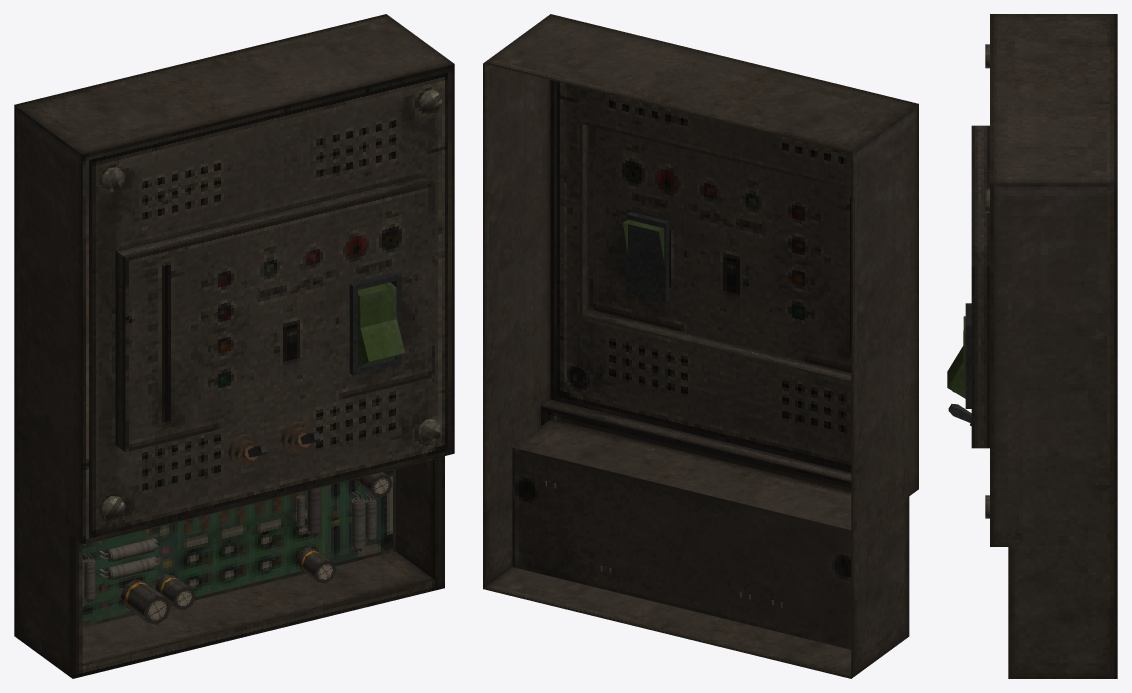
File: panel_etx_1_2.glb
3 views of the same model, side by side, from view 1: azimuth 30°, elevation 25°; view 2: azimuth 150°, elevation 25°; view 3: azimuth 270°, elevation 25° (orthographic). The views are drawn at different scales.
Visible parts, largest first — view 1: panel_etx_1_2, panel_etx_1_2_button_child; view 2: panel_etx_1_2; view 3: panel_etx_1_2, panel_etx_1_2_button_child.
Boxes of the visible parts, x1,y1,x2,y2 form: panel_etx_1_2: [14, 14, 454, 678]; panel_etx_1_2_button_child: [358, 282, 405, 366]; panel_etx_1_2: [483, 14, 918, 678]; panel_etx_1_2: [948, 14, 1117, 678]; panel_etx_1_2_button_child: [947, 316, 965, 398].
Size of the model in its own units: 0.44 by 0.6 by 0.1866.
Materials: 2 (2 with a texture image).
